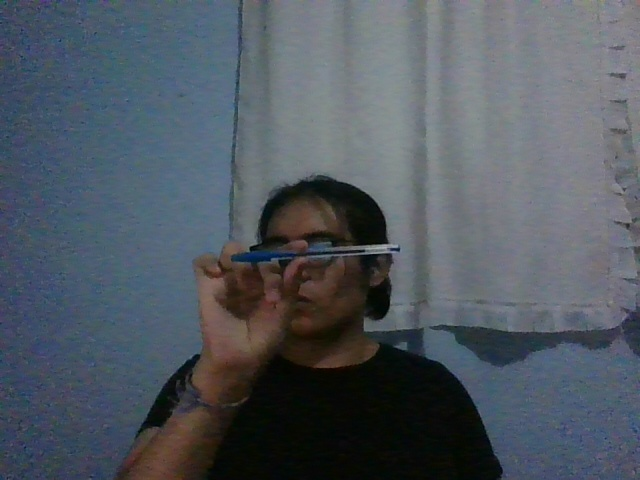pluma: (230, 243, 400, 262)
